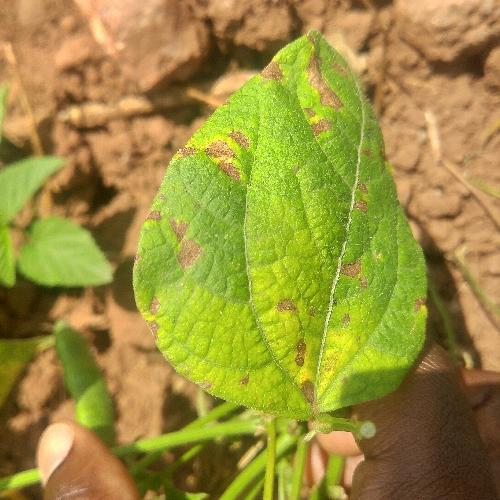mozaik: (112, 81, 437, 364)
